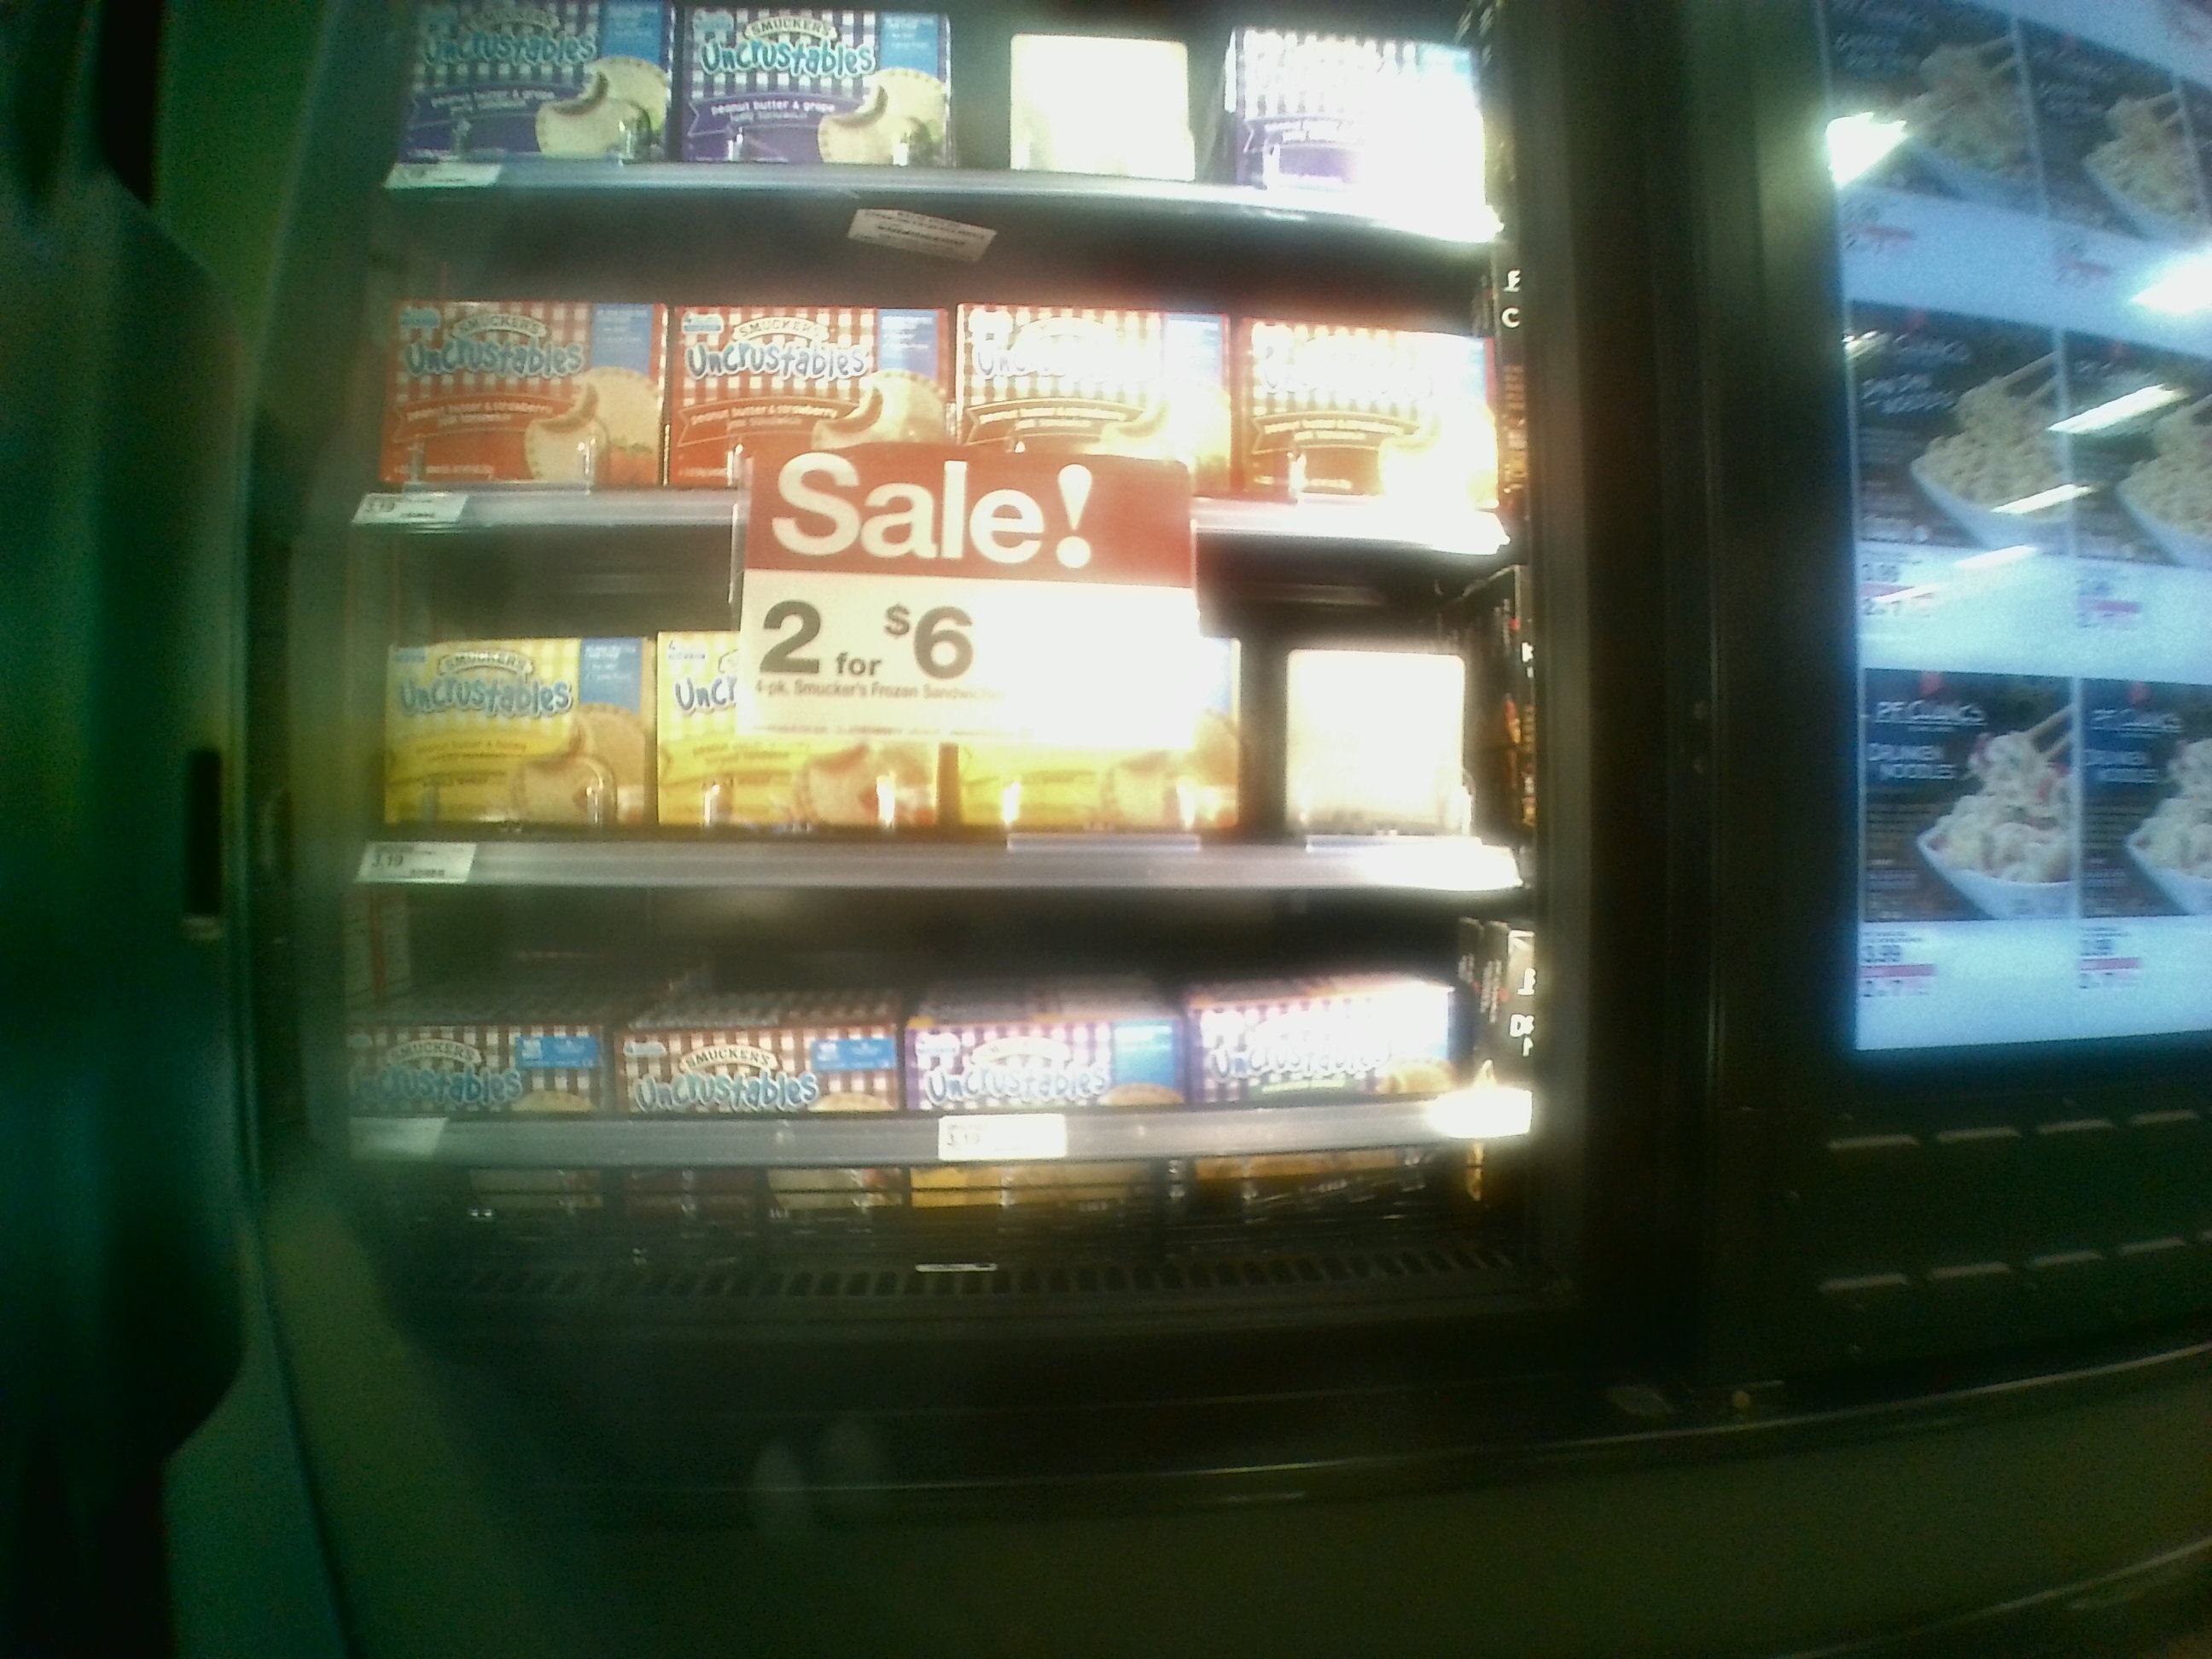shelf: (294, 873, 1550, 1328), (354, 183, 1517, 566), (307, 535, 1534, 892)
